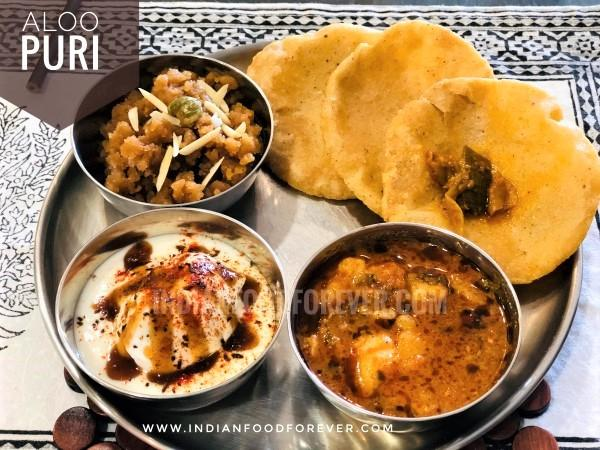puri: (277, 33, 596, 227)
